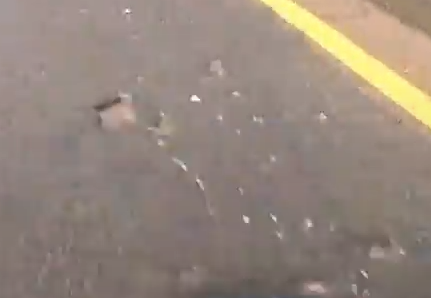Berlubang: (184, 90, 344, 136), (78, 88, 175, 141), (350, 219, 417, 270), (285, 264, 359, 298)
